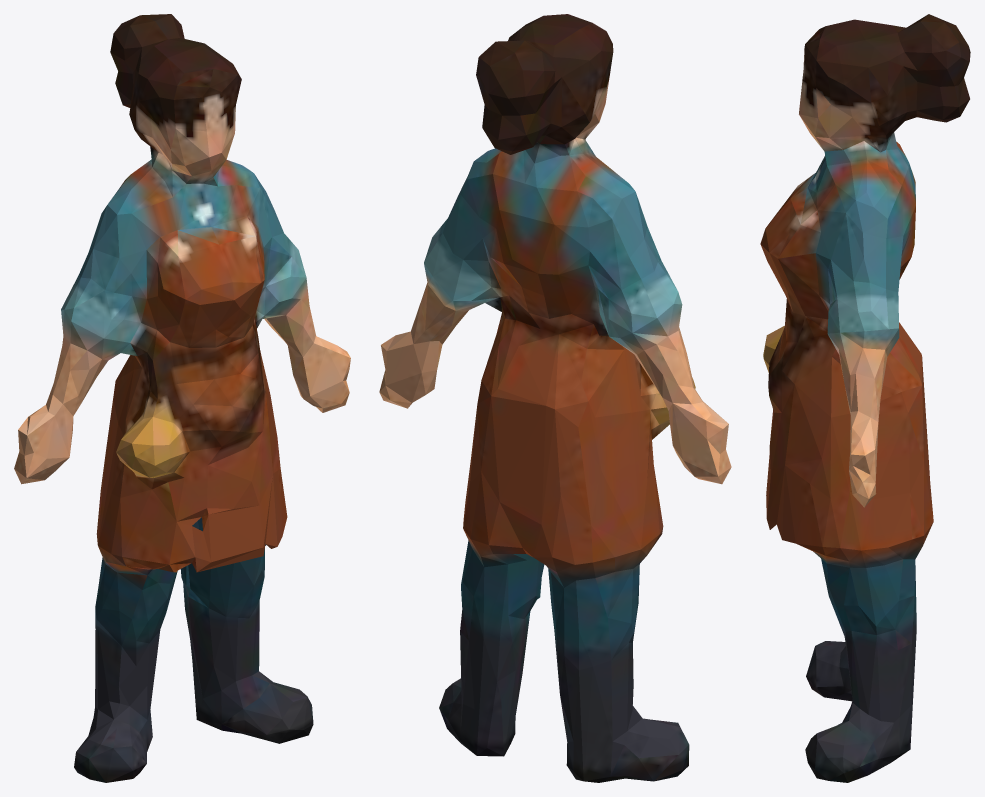
The model's file is habitant-loin.glb.
3 views of the same model, side by side, from view 1: azimuth 30°, elevation 25°; view 2: azimuth 150°, elevation 25°; view 3: azimuth 270°, elevation 25° (orthographic). The views are drawn at different scales.
Parts seen in each view (by area): view 1: habitant; view 2: habitant; view 3: habitant.
Boxes of the visible parts, left/top/right/bottom form: habitant: left=14, top=14, right=350, bottom=782; habitant: left=379, top=14, right=731, bottom=782; habitant: left=760, top=14, right=970, bottom=782.
Size of the model in its own units: 0.493 by 1.01 by 0.2718.
Materials: 1 (1 with a texture image).
